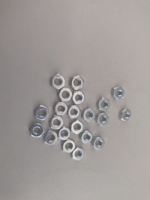nut: (34, 105, 50, 121), (29, 123, 45, 138), (51, 74, 65, 90), (54, 102, 69, 116), (70, 76, 84, 90), (59, 88, 73, 102), (67, 105, 81, 119), (44, 131, 58, 145), (50, 116, 64, 130), (79, 130, 93, 144), (71, 147, 85, 161), (98, 97, 111, 112), (83, 108, 96, 123), (71, 120, 84, 135), (112, 86, 125, 100), (73, 91, 86, 105), (97, 113, 110, 127), (58, 127, 71, 141), (62, 140, 76, 153), (92, 137, 105, 150), (119, 109, 131, 122)
